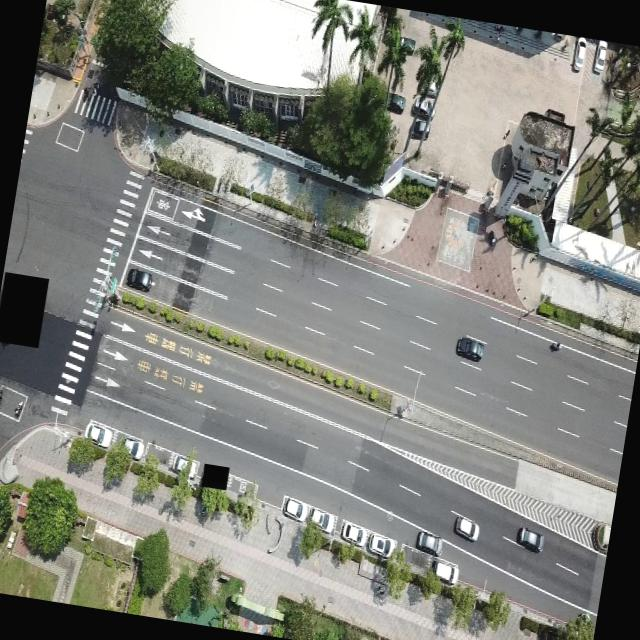bike: (13, 400, 25, 419), (548, 338, 562, 351), (488, 230, 498, 246), (0, 388, 5, 409)
car: (430, 554, 462, 589), (122, 264, 156, 296), (452, 512, 482, 544), (366, 528, 396, 560), (516, 524, 546, 554), (280, 494, 310, 524), (455, 334, 486, 363), (414, 528, 444, 557), (83, 421, 114, 448), (116, 436, 146, 462), (338, 518, 366, 545), (170, 454, 199, 480), (380, 90, 408, 116), (571, 36, 589, 72), (591, 40, 610, 74), (411, 96, 437, 120), (391, 34, 416, 56), (408, 118, 432, 140), (418, 78, 441, 99)
